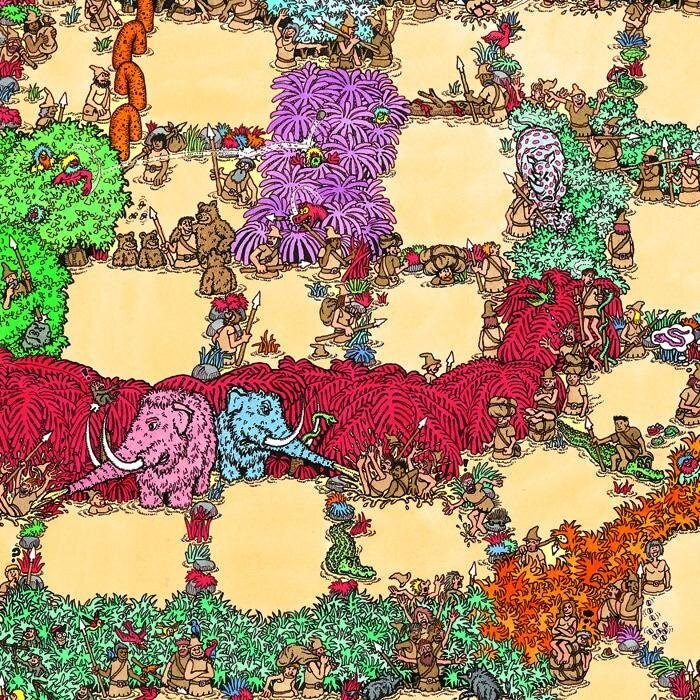Waldo: (49, 623, 71, 649)
